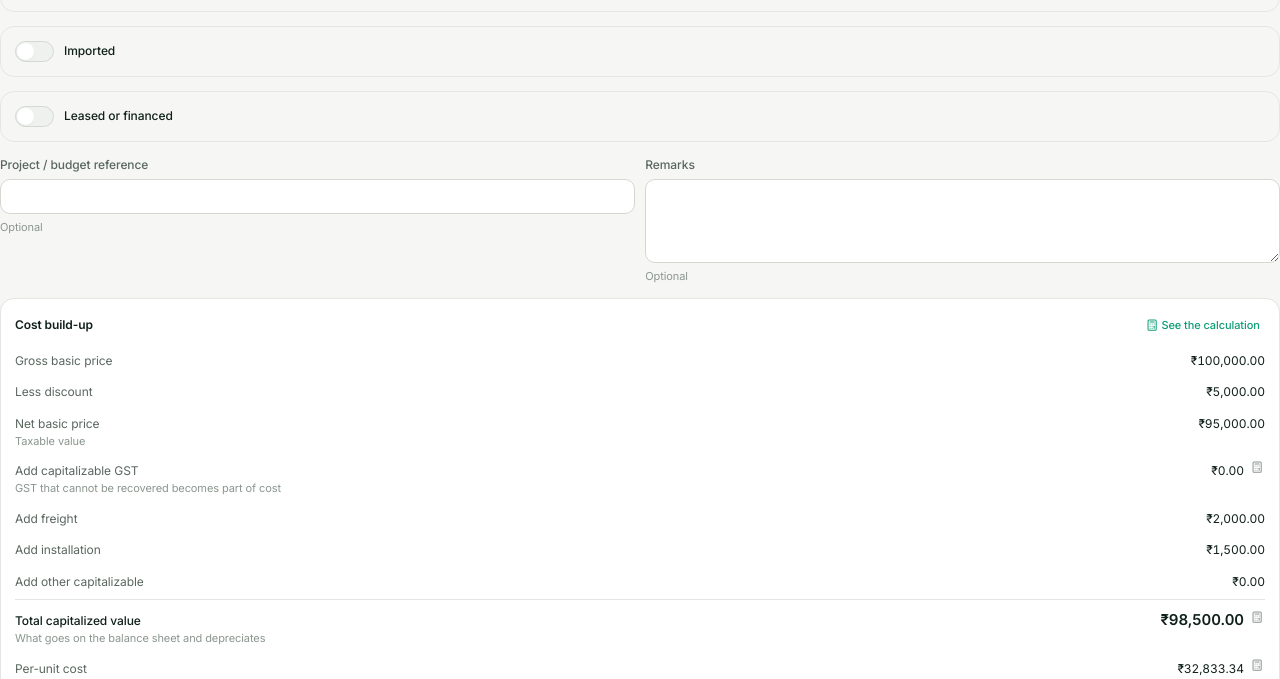
cost build-up drawer › shows the per-unit allocation for a multi-unit acquisition
(page scrolled)
Click the button "See the calculation": (1203, 325) [1140,313,1265,336]
(page scrolled)
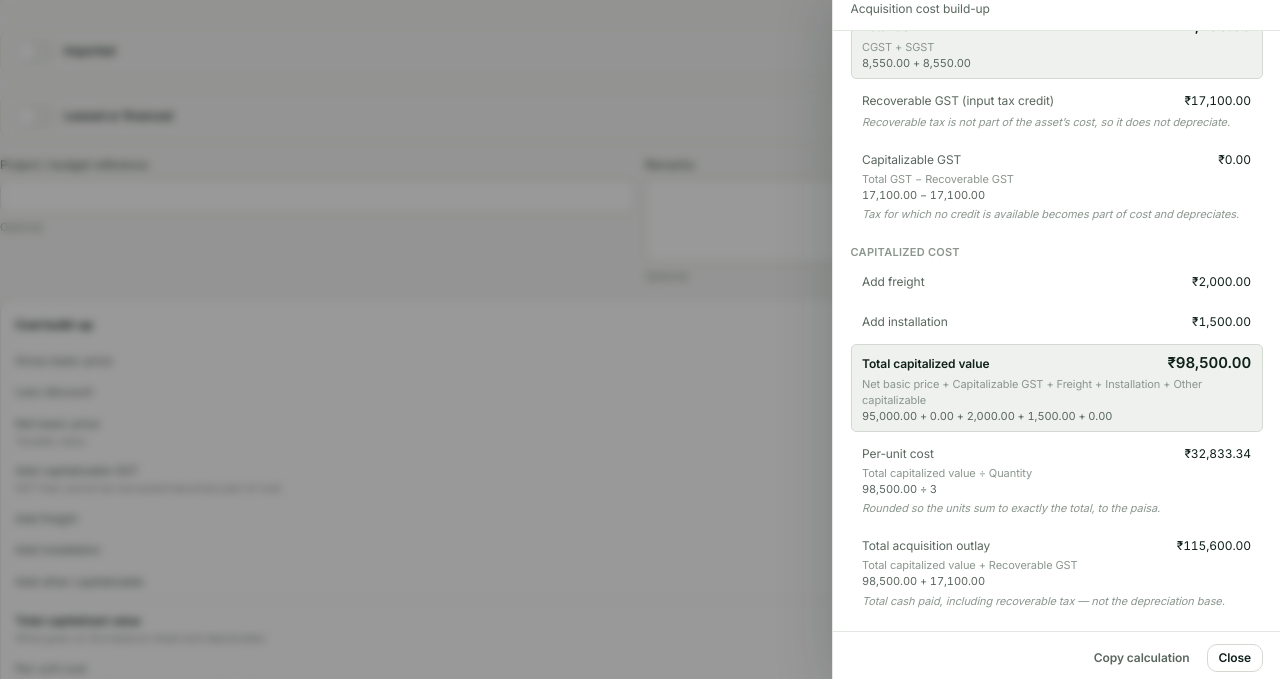
Check: the text "Per-unit cost" is shown, box [862,445,934,463]
Check: the text "98,500.00 ÷ 3" is shown, box [862,482,937,496]
